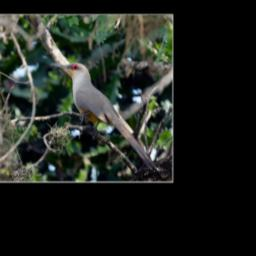Cuckoo: (49, 61, 160, 174)
